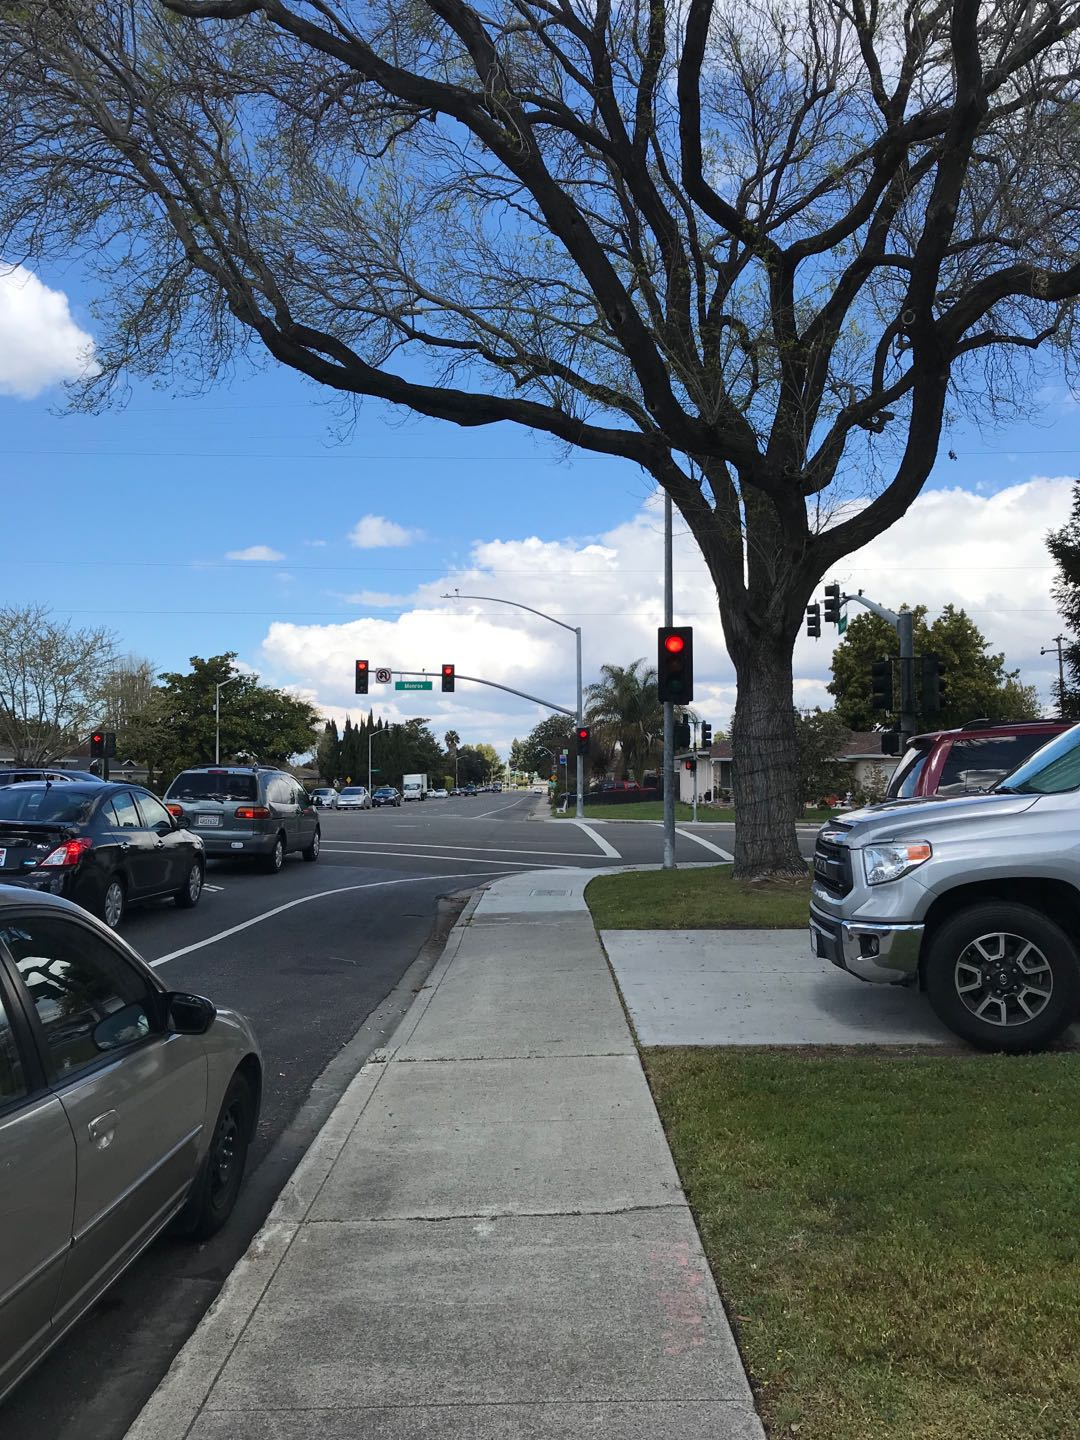red_light: (660, 627, 689, 703), (576, 723, 590, 749), (441, 663, 454, 692), (356, 657, 365, 688)
